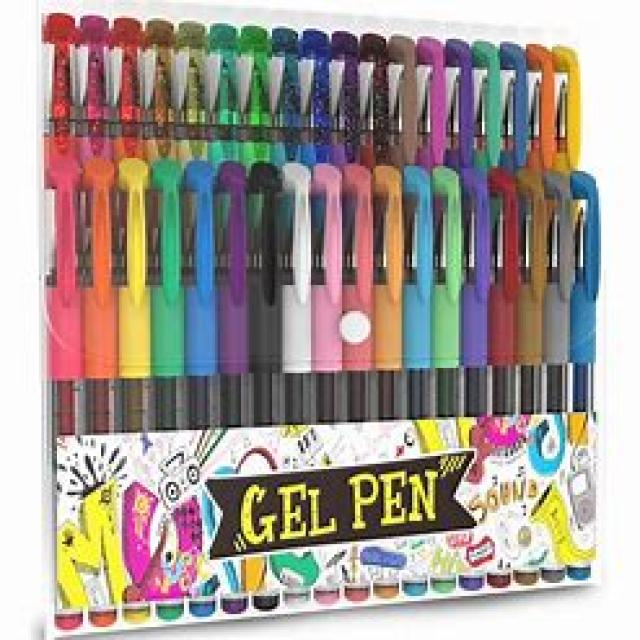pen: (35, 19, 608, 590)
